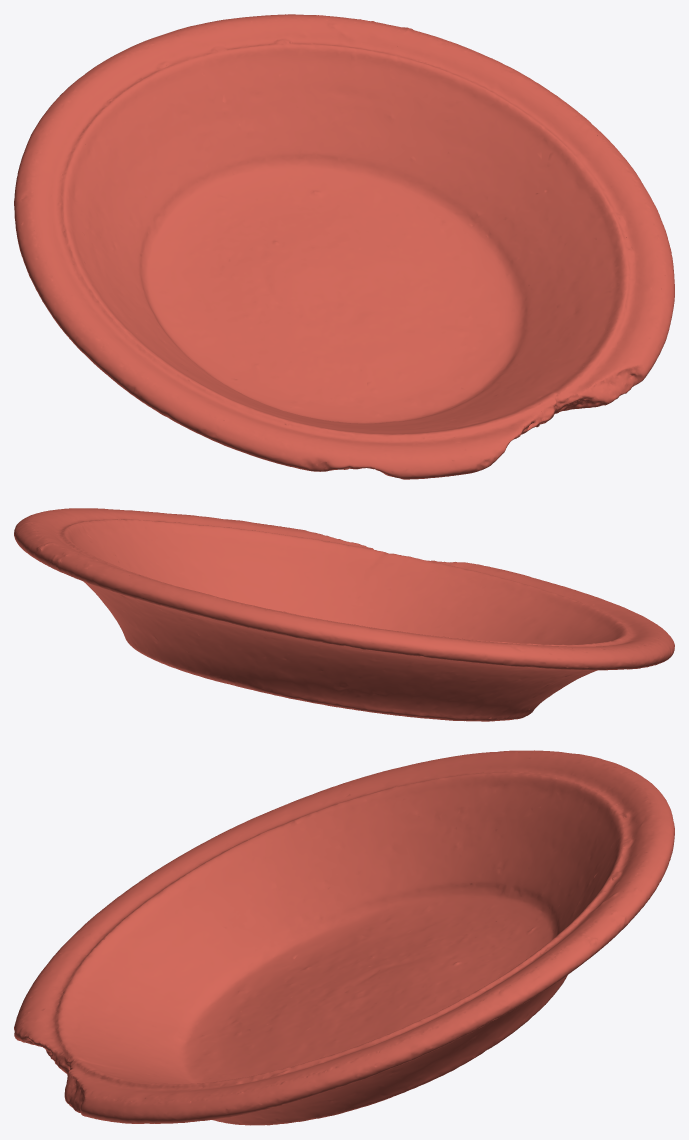
3 views of the same model, one above another, from view 1: azimuth 30°, elevation 25°; view 2: azimuth 150°, elevation 25°; view 3: azimuth 270°, elevation 25° (orthographic). The views are drawn at different scales.
Visible parts, largest first — view 1: Object_2; view 2: Object_2; view 3: Object_2.
Part boxes in pixels (x1,y1,x2,y2): Object_2: (14, 14, 674, 479); Object_2: (14, 508, 674, 721); Object_2: (14, 750, 674, 1125).
Size of the model in its own units: 1 by 0.4028 by 0.9432.
